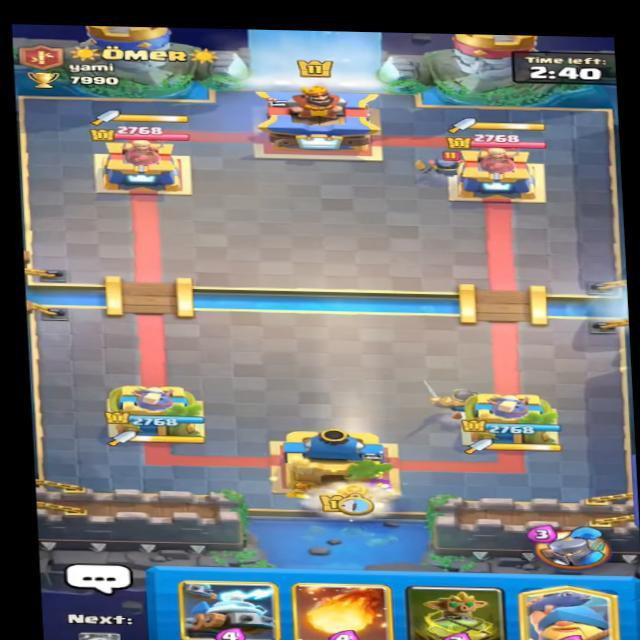Minipekka: (412, 149, 465, 180)
